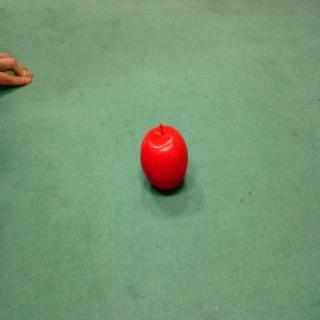apple: (131, 117, 197, 202)
